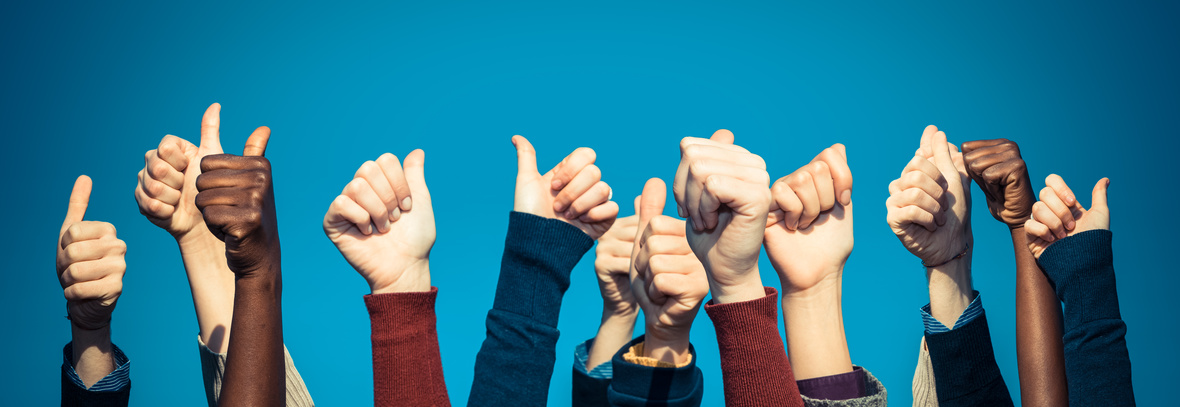thumbsup: (133, 102, 222, 219), (510, 132, 620, 224), (54, 172, 128, 303), (194, 124, 274, 240), (1023, 174, 1117, 268), (635, 178, 695, 308), (886, 130, 949, 235)
